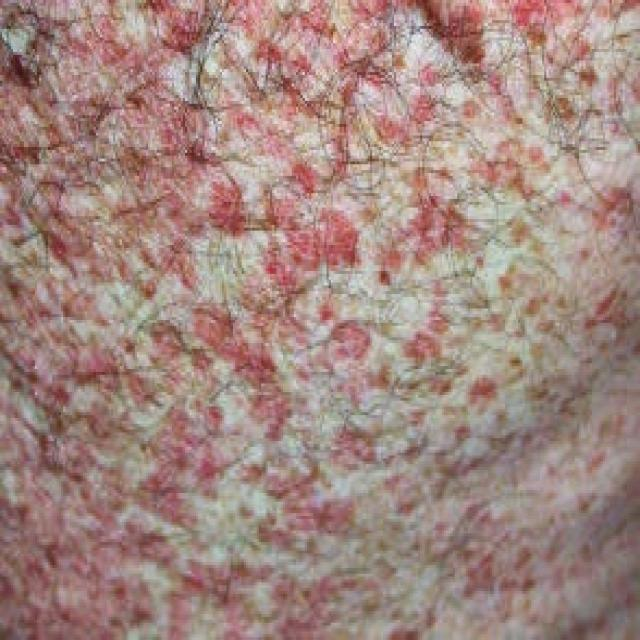Tinea Ringworm Candidiasis and other Fungal Infections: (1, 0, 633, 632)
